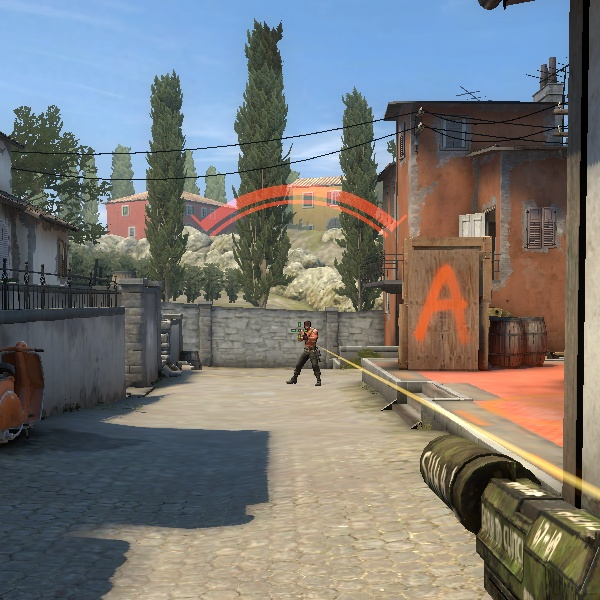t_body: (287, 316, 326, 385)
